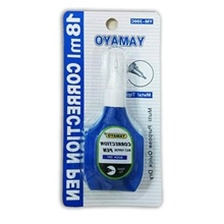book: (59, 9, 162, 211)
correction_fluid: (81, 46, 147, 194)
